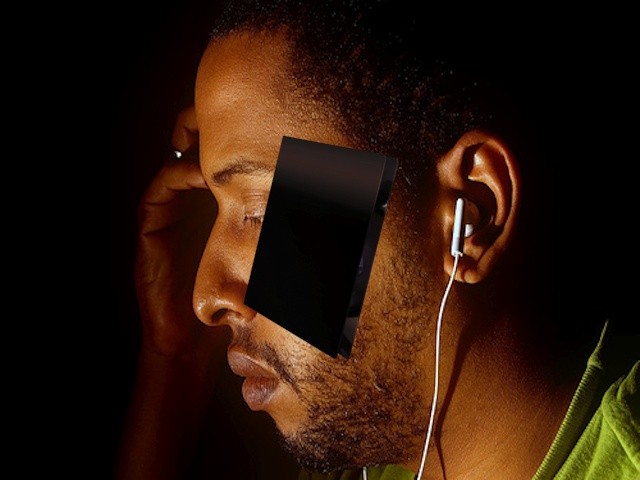ring_binder: (241, 129, 400, 360)
